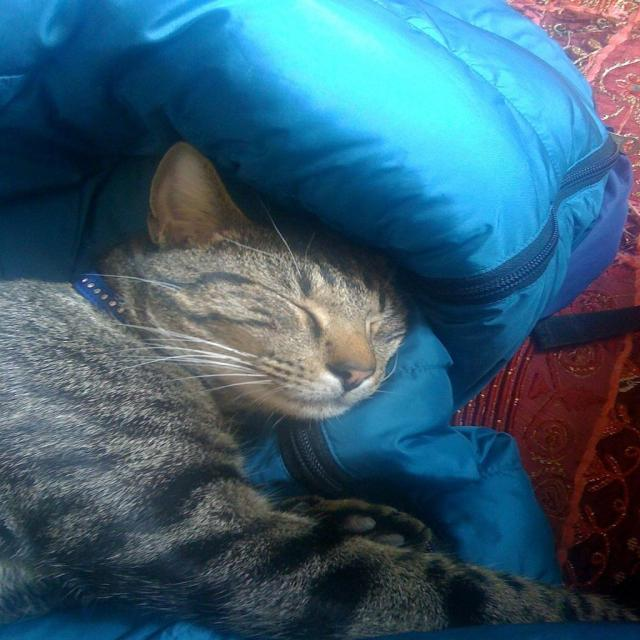Cat: (0, 140, 638, 638)
